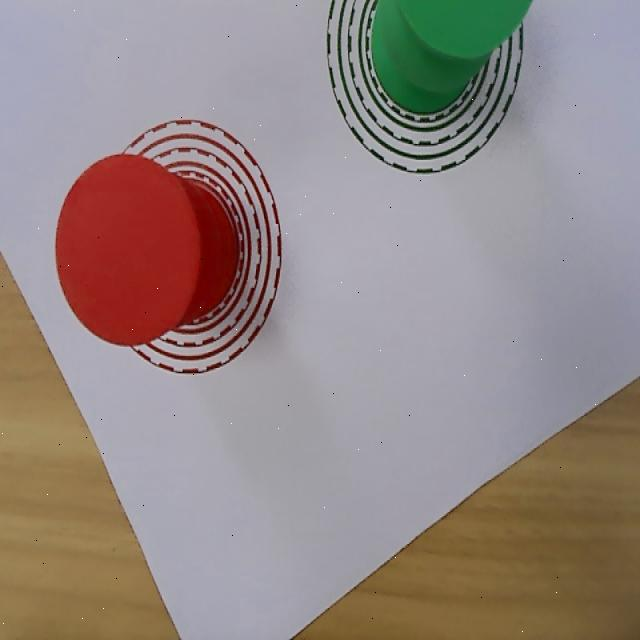r: (56, 154, 201, 346)
